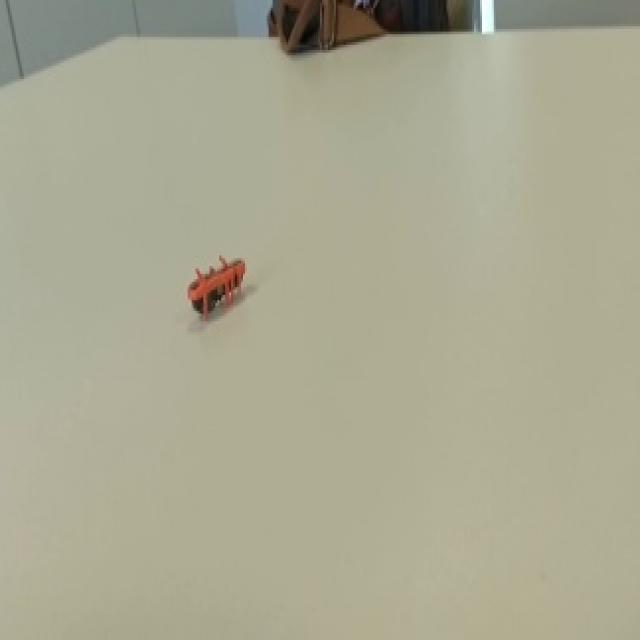7_NanoBug_Naranja: (171, 240, 267, 321)
